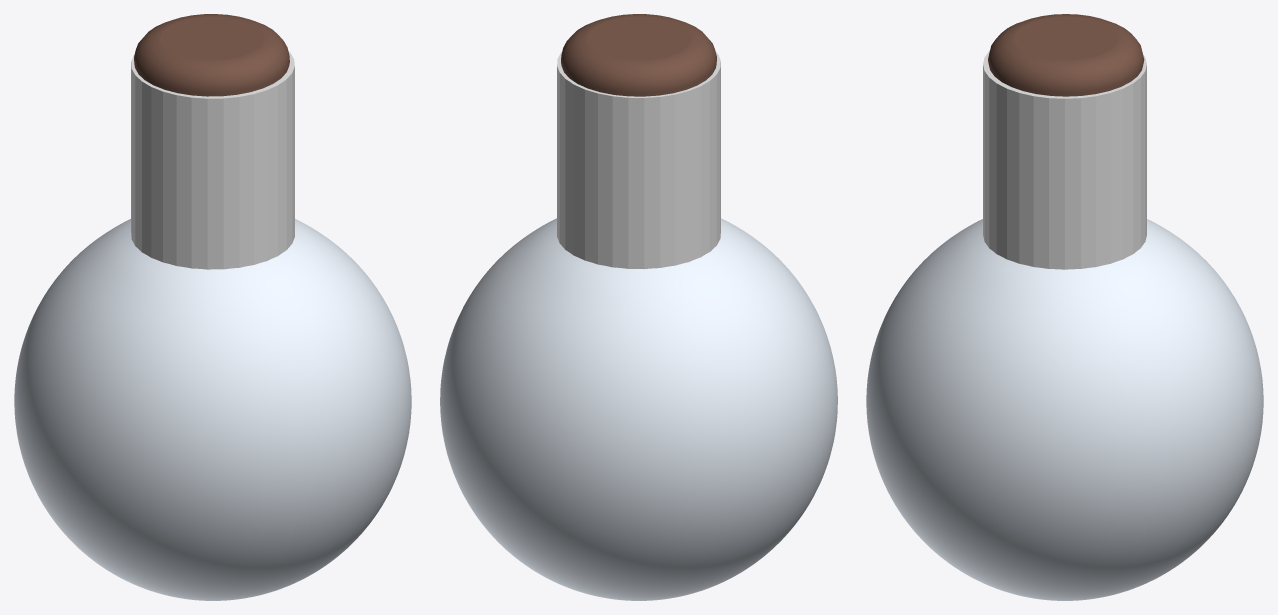
Rendered from DO NOT USE potion.fbx.
3 views of the same model, side by side, from view 1: azimuth 30°, elevation 25°; view 2: azimuth 150°, elevation 25°; view 3: azimuth 270°, elevation 25° (orthographic).
Parts seen in each view (by area): view 1: Sphere, Cylinder, Cylinder.001; view 2: Sphere, Cylinder, Cylinder.001; view 3: Sphere, Cylinder, Cylinder.001.
Boxes of the visible parts, x1=… form: Sphere: x1=14, y1=219, x2=411, y2=600; Cylinder: x1=131, y1=51, x2=294, y2=269; Cylinder.001: x1=134, y1=14, x2=289, y2=96; Sphere: x1=440, y1=218, x2=837, y2=600; Cylinder: x1=557, y1=51, x2=720, y2=269; Cylinder.001: x1=561, y1=14, x2=716, y2=96; Sphere: x1=866, y1=219, x2=1263, y2=600; Cylinder: x1=983, y1=50, x2=1146, y2=269; Cylinder.001: x1=988, y1=14, x2=1144, y2=96.
Size of the model in its own units: 197 by 298 by 197.
